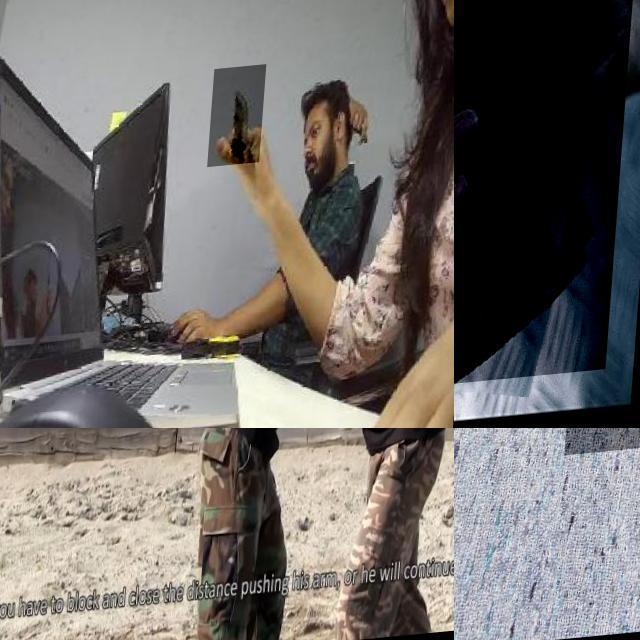-: (571, 428, 640, 593), (213, 74, 270, 174), (402, 428, 454, 462)
gun-knife-thesis - v11 Yolov5 augmented: (454, 0, 640, 424)
